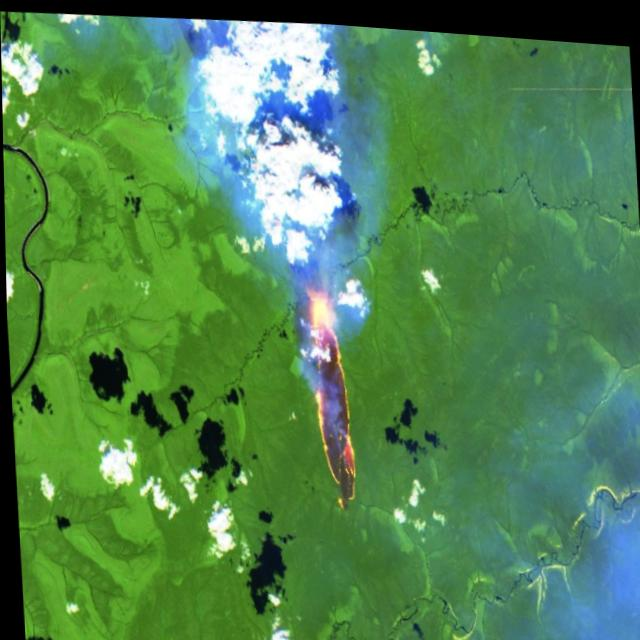fire: (297, 275, 360, 512)
